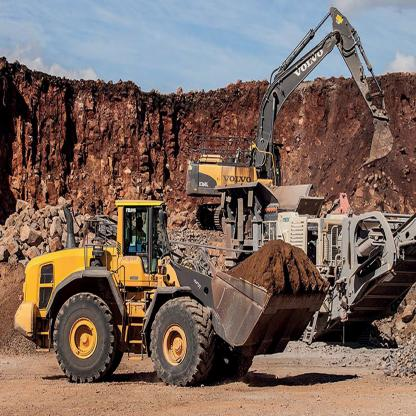bull_dozer/loader/grader: (12, 186, 331, 408)
excavator: (177, 5, 409, 235)
